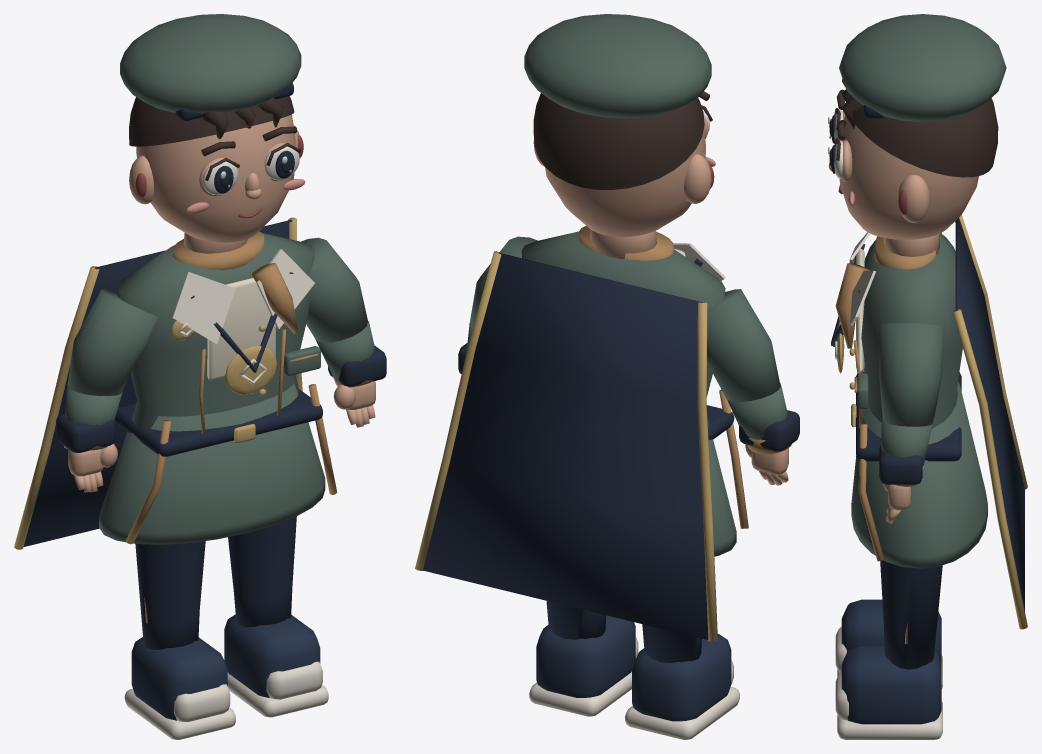
The model's file is npc_npc_ridge_training_reward.glb.
3 views of the same model, side by side, from view 1: azimuth 30°, elevation 25°; view 2: azimuth 150°, elevation 25°; view 3: azimuth 270°, elevation 25° (orthographic). The views are drawn at different scales.
Visible parts, largest first — view 1: figure.067; view 2: figure.067; view 3: figure.067.
Boxes of the visible parts, <box> form: figure.067: <box>14,14,386,739</box>; figure.067: <box>415,14,799,739</box>; figure.067: <box>828,14,1027,739</box>.
Bounding box in the file's own units: 0.782 × 1.58 × 0.4256.
